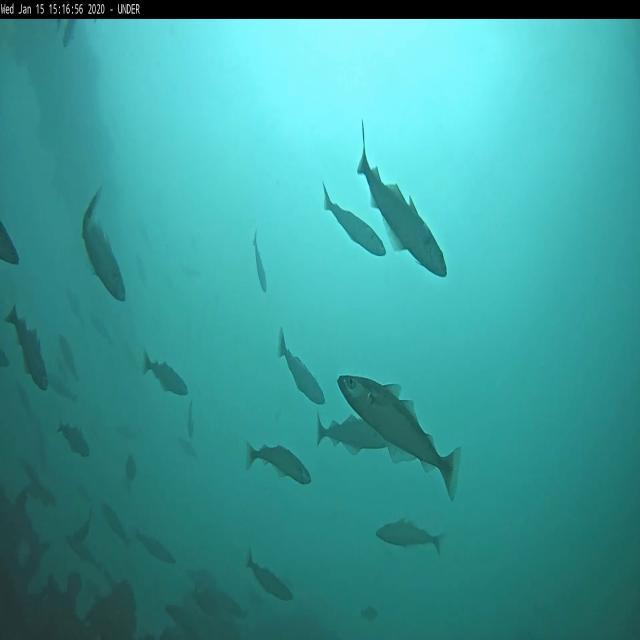fish: (336, 372, 459, 499), (357, 121, 447, 277), (321, 177, 387, 260), (79, 183, 126, 299), (278, 326, 324, 405), (5, 307, 48, 390), (245, 439, 312, 484), (319, 412, 386, 454), (373, 516, 444, 552), (246, 550, 295, 600), (142, 351, 188, 396), (102, 502, 132, 544), (137, 532, 177, 562), (60, 424, 90, 459), (253, 232, 268, 295), (66, 535, 96, 566), (1, 220, 22, 264), (48, 375, 77, 402), (90, 314, 113, 346), (61, 338, 80, 376), (74, 506, 92, 544), (15, 382, 33, 419), (67, 290, 85, 324), (125, 456, 138, 484), (188, 398, 196, 439), (0, 349, 12, 368)
